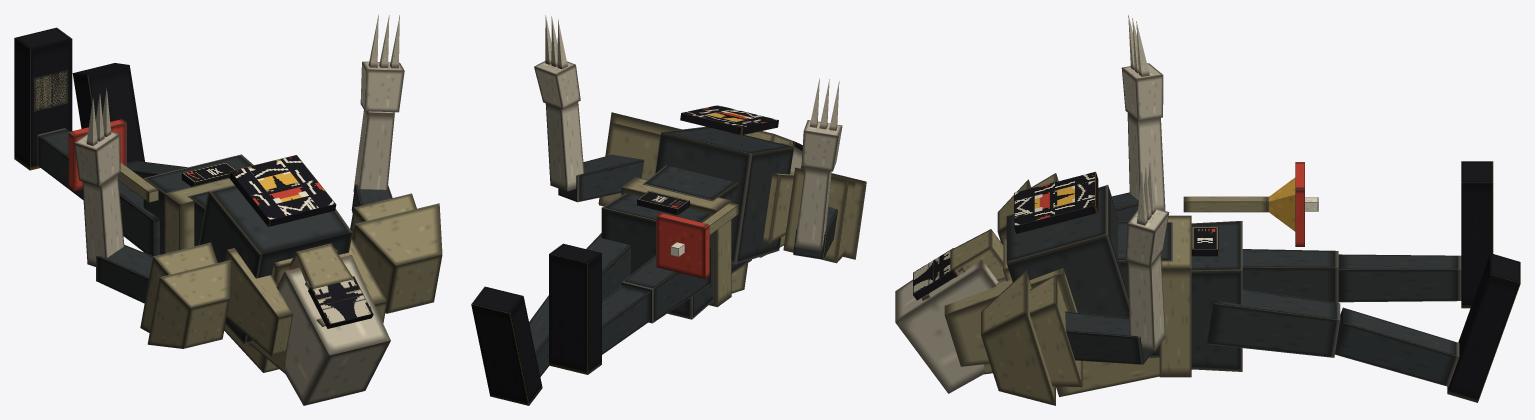
Rendered from calmor_hurt.obj.
3 renders of one model, left to right at view 1: azimuth 30°, elevation 25°; view 2: azimuth 150°, elevation 25°; view 3: azimuth 270°, elevation 25°, orthographic. The views are drawn at different scales.
Visible parts, largest first — view 1: calmor_hurt; view 2: calmor_hurt; view 3: calmor_hurt.
Boxes of the visible parts, left/top/right/bottom form: calmor_hurt: left=14, top=15, right=442, bottom=405; calmor_hurt: left=471, top=15, right=866, bottom=405; calmor_hurt: left=895, top=15, right=1520, bottom=405.
Size of the model in its own units: 0.658 by 0.5513 by 1.05.
Materials: 1 (1 with a texture image).
